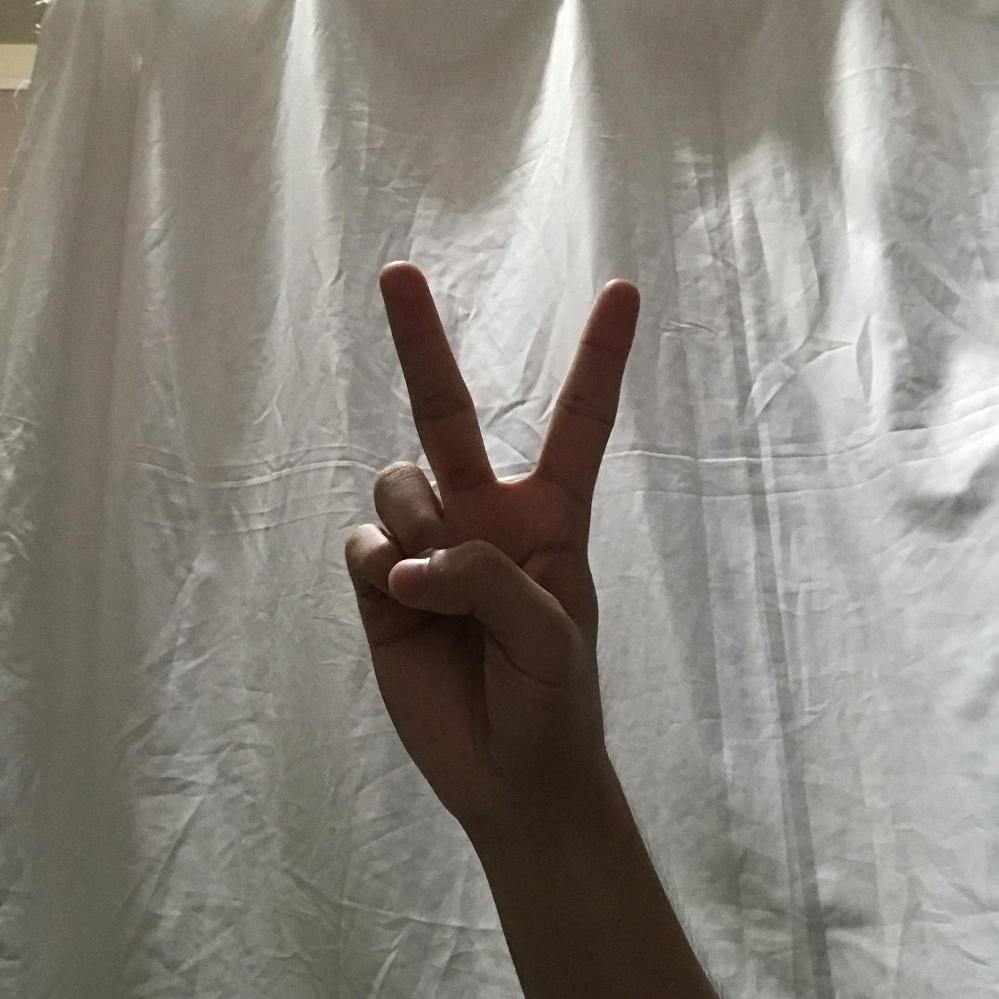v: (349, 264, 641, 792)
